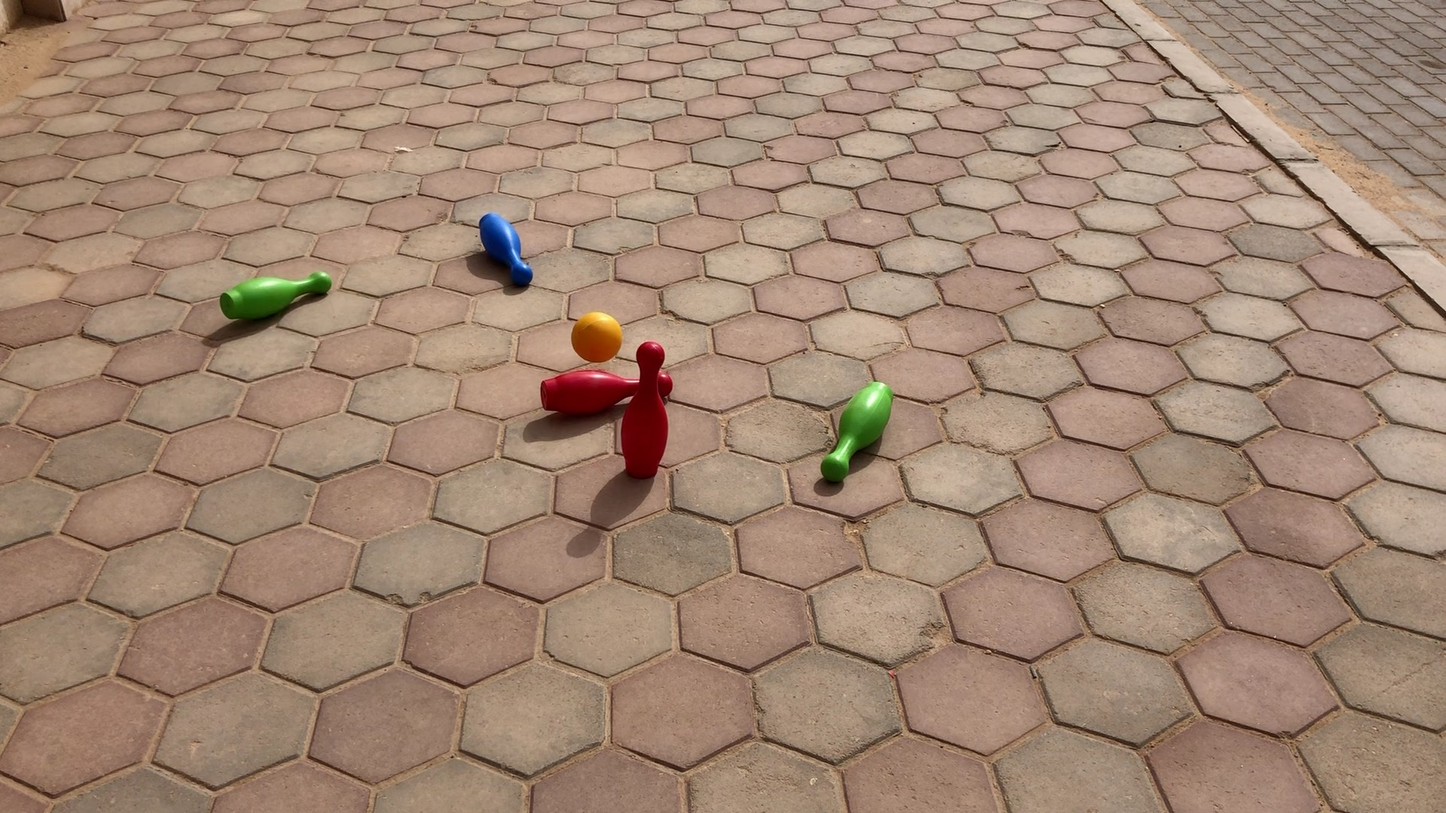bowling-pin: (620, 341, 673, 477), (821, 384, 889, 482), (218, 273, 329, 323), (540, 369, 642, 419), (479, 214, 534, 288)
